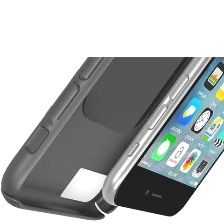phone: (97, 21, 224, 219)
